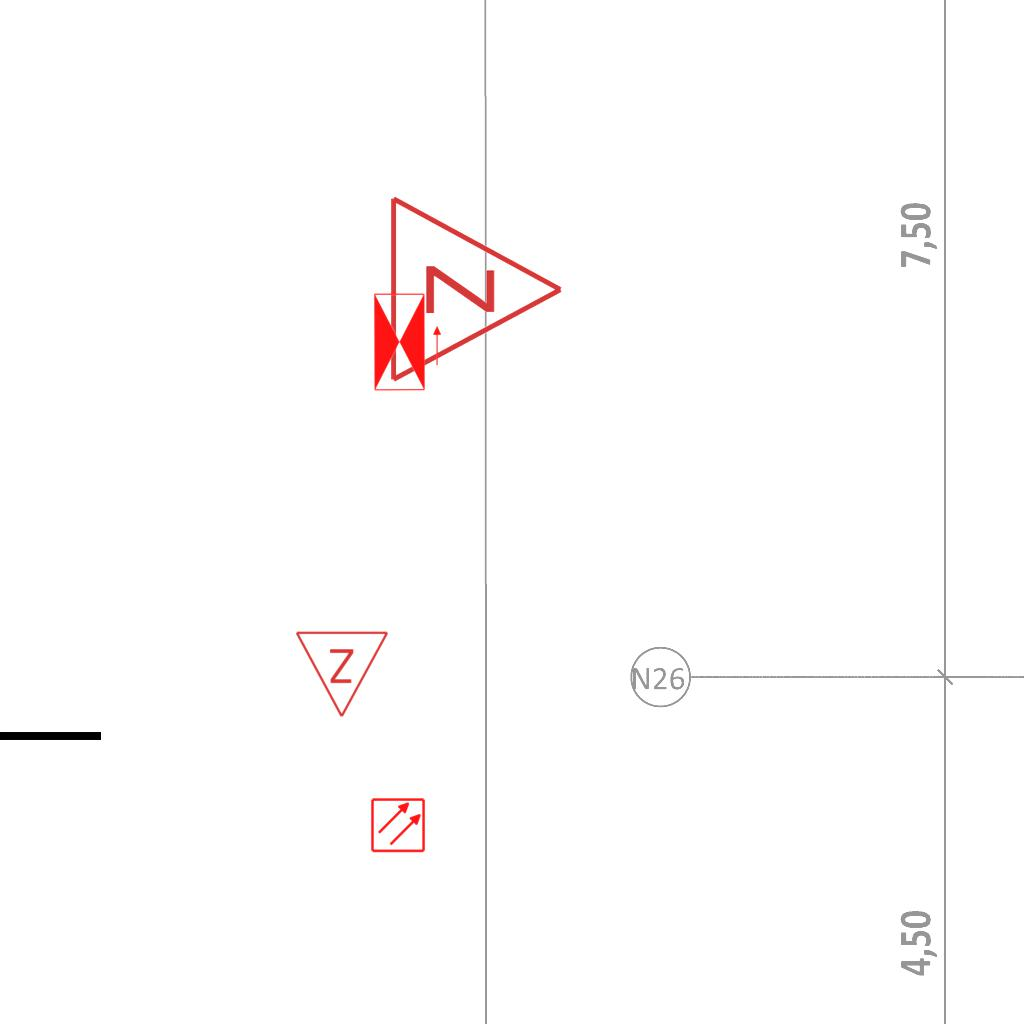Fluchtwegpiktogramm: (371, 290, 444, 394)
RMO_Rauchmelder_optischer: (370, 797, 426, 853)
Zimmersignalleuchte: (376, 189, 576, 385), (294, 624, 392, 724)
